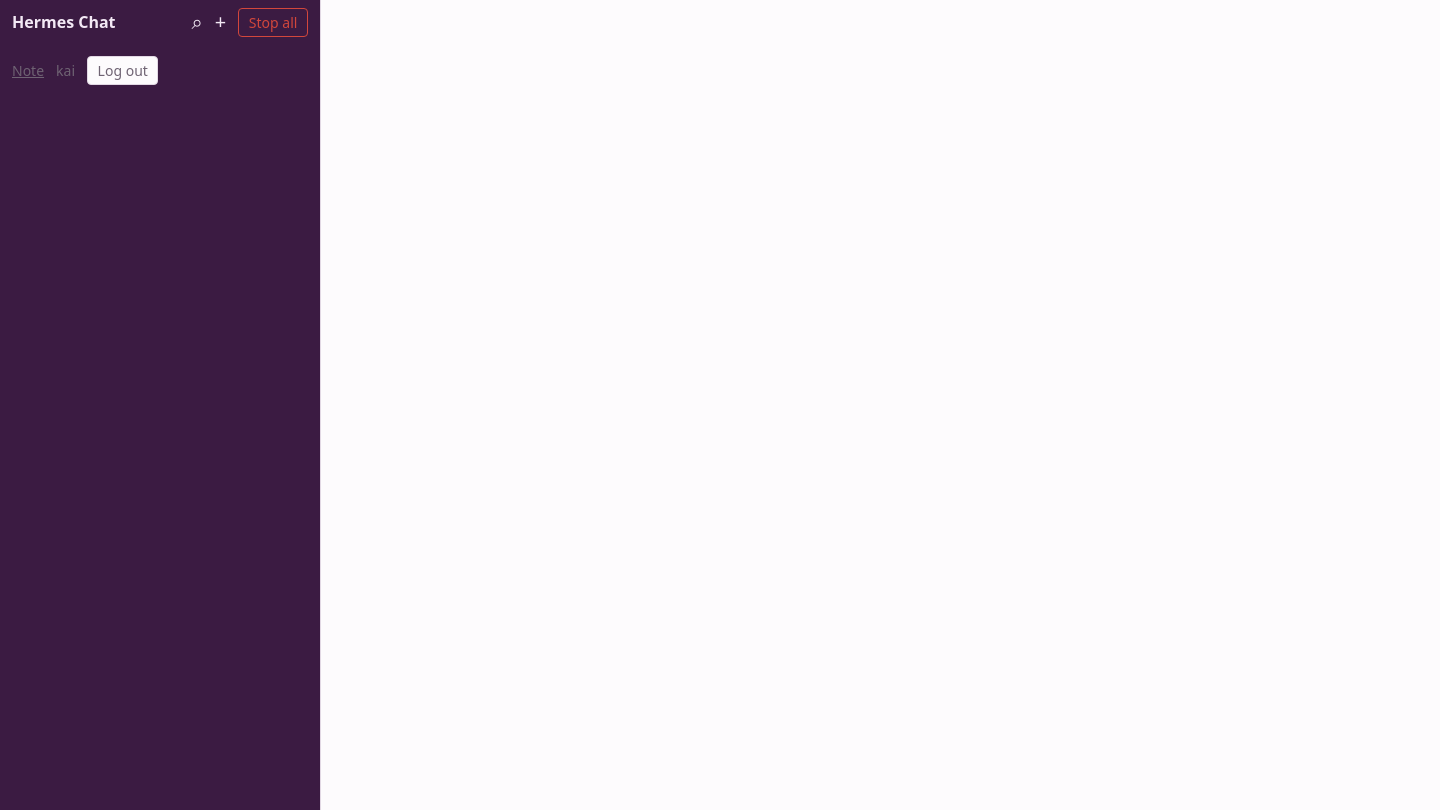
Scenario: logging out returns to the login form
Click the button "Log out": (123, 70) x1=87 y1=56 x2=158 y2=85
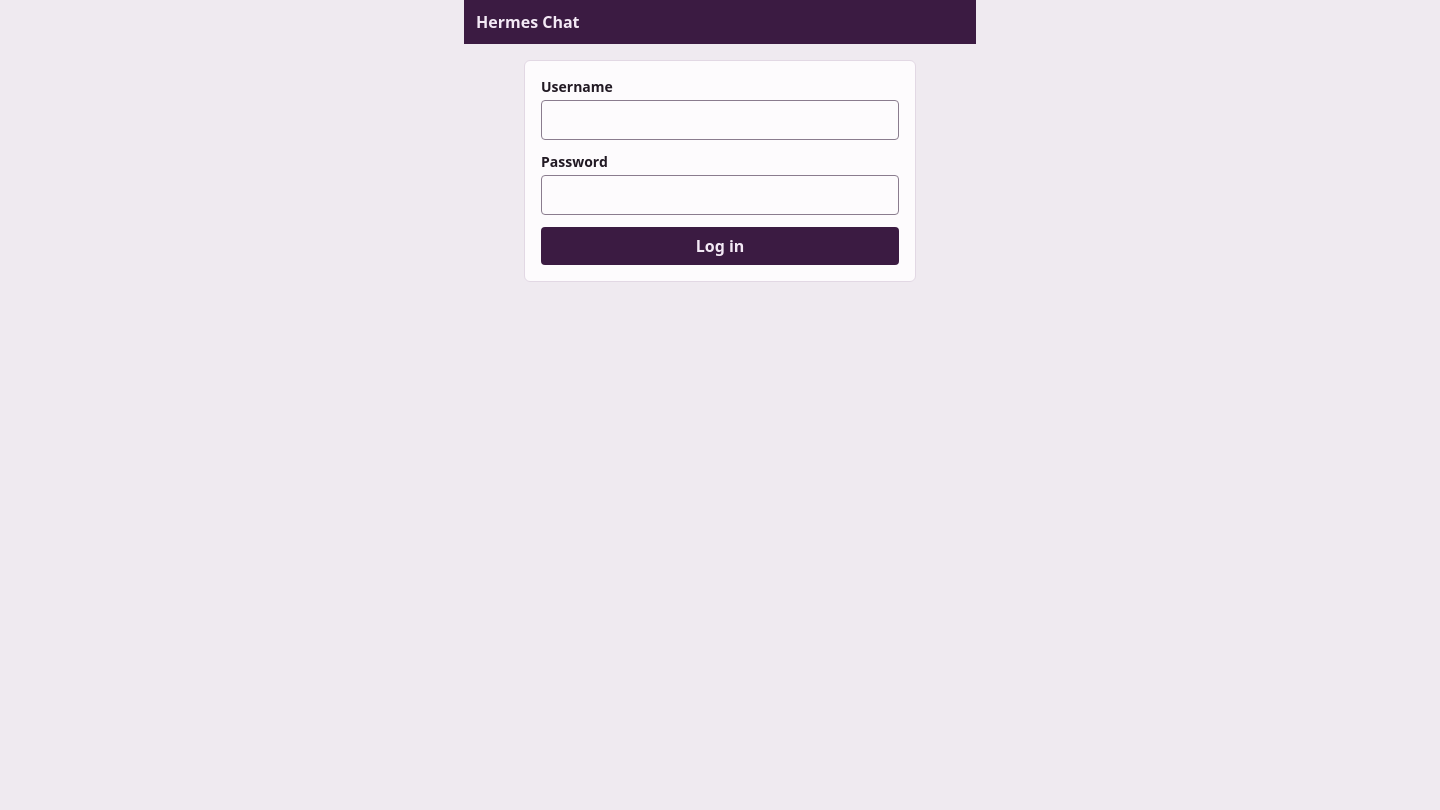
Expected: the field labelled "Username" is shown, x1=541 y1=100 x2=899 y2=140
Expected: the text "kai" is gone
